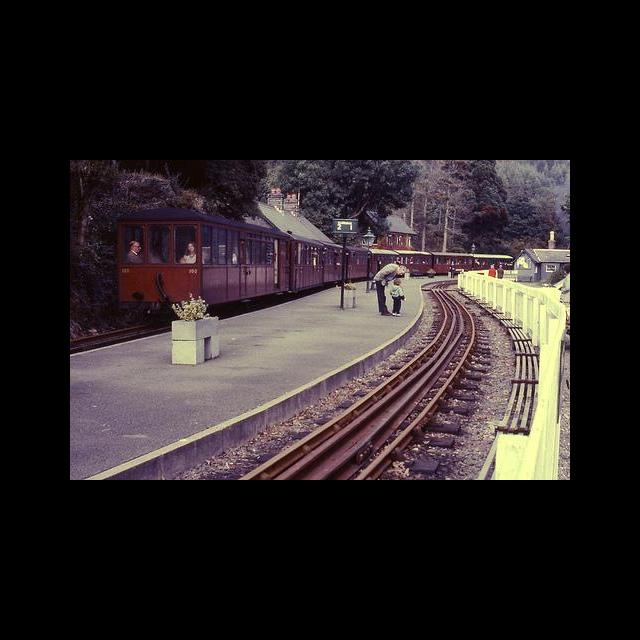NO-Hardhat: (394, 278, 402, 285), (186, 242, 196, 247), (562, 263, 570, 269), (128, 240, 139, 244), (400, 266, 406, 273), (499, 265, 502, 267), (491, 265, 494, 267)
NO-Mask: (132, 247, 142, 252), (396, 269, 402, 275), (188, 247, 195, 252), (399, 283, 402, 286)
NO-Safety Vest: (377, 264, 397, 282), (563, 273, 570, 298), (128, 252, 142, 262), (183, 253, 196, 263), (392, 286, 403, 297), (498, 268, 504, 277), (490, 269, 496, 277)
Person: (373, 263, 405, 316), (560, 263, 570, 325), (390, 278, 406, 316), (178, 242, 196, 264), (127, 241, 144, 263), (488, 265, 496, 278), (497, 265, 504, 278)
